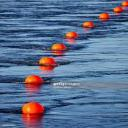red: (22, 102, 44, 114), (24, 76, 44, 84), (38, 57, 56, 65), (51, 44, 66, 50), (66, 32, 78, 38), (113, 7, 124, 13), (98, 13, 110, 18), (82, 22, 94, 26), (122, 1, 127, 6)
